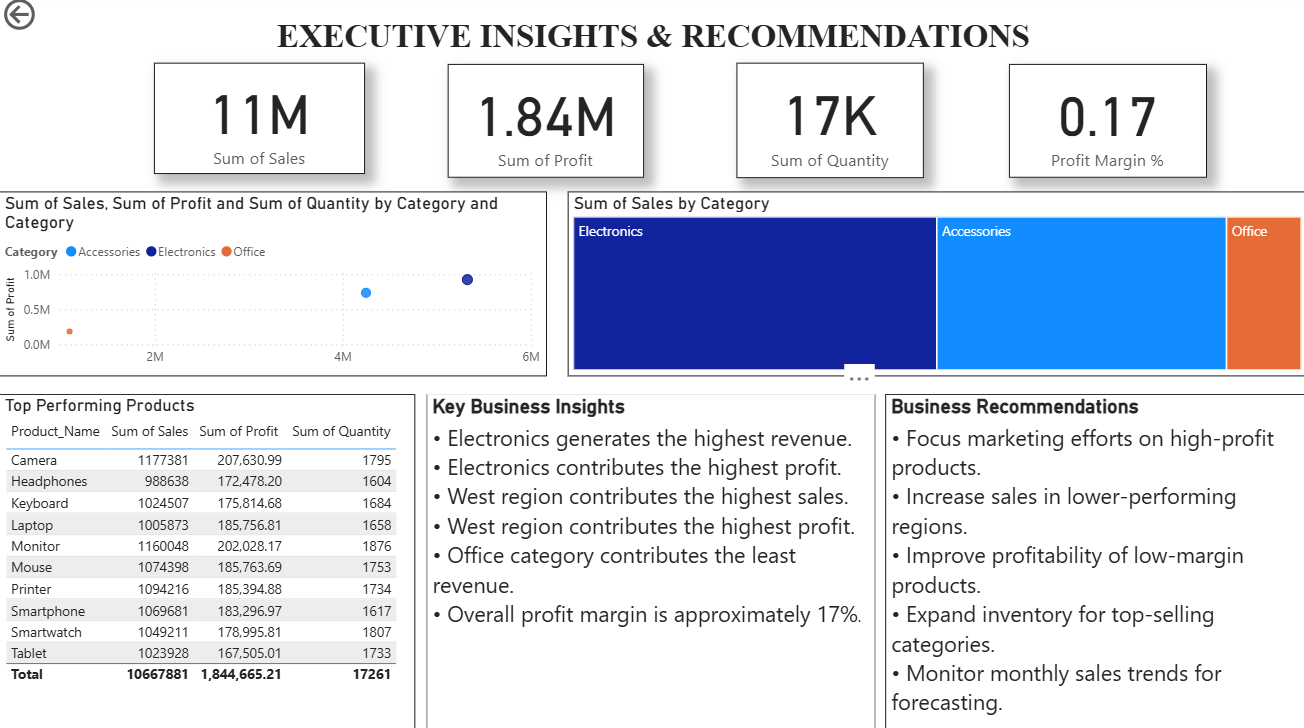

What the dashboard file says about the page in this screenshot:
{"tool":"powerbi","page":{"name":" EXECUTIVE INSIGHTS & RECOMMENDATIONS","canvas":[1280,720],"ordinal":3},"visuals":[{"type":"textbox","box":[0,0,1280.3,67.3],"z":0},{"type":"card","fields":{"Values":["Sum(ecommerce_sales_cleaned.Sales)"]},"box":[151.6,67.3,206.7,108.8],"z":1000},{"type":"card","fields":{"Values":["Sum(ecommerce_sales_cleaned.Profit)"]},"box":[439,68.5,192,111.3],"z":2000},{"type":"card","fields":{"Values":["Sum(ecommerce_sales_cleaned.Quantity)"]},"box":[721.5,67.3,183.4,112.5],"z":3000},{"type":"card","fields":{"Values":["ecommerce_sales_cleaned.Profit Margin %"]},"box":[988,68.5,193.2,111.3],"z":4000},{"type":"treemap","fields":{"Values":["Sum(ecommerce_sales_cleaned.Sales)"],"Group":["ecommerce_sales_cleaned.Category"]},"box":[556.4,193.2,723.9,181],"z":5000},{"type":"scatterChart","fields":{"X":["Sum(ecommerce_sales_cleaned.Sales)"],"Y":["Sum(ecommerce_sales_cleaned.Profit)"],"Category":["ecommerce_sales_cleaned.Category"],"Size":["Sum(ecommerce_sales_cleaned.Quantity)"],"Series":["ecommerce_sales_cleaned.Category"]},"box":[0,193.2,535.6,181],"z":6000},{"type":"tableEx","title":"Top Performing Products","fields":{"Values":["ecommerce_sales_cleaned.Product_Name","Sum(ecommerce_sales_cleaned.Sales)","Sum(ecommerce_sales_cleaned.Profit)","Sum(ecommerce_sales_cleaned.Quantity)"]},"box":[0,391.3,407.2,328.9],"z":7000},{"type":"actionButton","box":[0,0,100,40],"z":8000},{"type":"textbox","title":"Key Business Insights","box":[418.2,391.3,439,328.9],"z":9000},{"type":"textbox","title":"Business Recommendations","box":[867,391.3,413.3,328.9],"z":10000}]}

Visuals, with their boxes in screenshot pixels (x1, y1, x2, y2), scaled from the page's 1280x720 canvas onto the 1304x728 screenshot:
textbox: [0,0,1303,68]
card - Sum(ecommerce_sales_cleaned.Sales): [154,68,365,178]
card - Sum(ecommerce_sales_cleaned.Profit): [447,69,643,182]
card - Sum(ecommerce_sales_cleaned.Quantity): [735,68,922,182]
card - ecommerce_sales_cleaned.Profit Margin %: [1007,69,1203,182]
treemap - Sum(ecommerce_sales_cleaned.Sales) x ecommerce_sales_cleaned.Category: [567,195,1303,378]
scatterChart - Sum(ecommerce_sales_cleaned.Sales) x Sum(ecommerce_sales_cleaned.Profit): [0,195,546,378]
"Top Performing Products" tableEx: [0,396,415,727]
actionButton: [0,0,102,40]
"Key Business Insights" textbox: [426,396,873,727]
"Business Recommendations" textbox: [883,396,1303,727]
